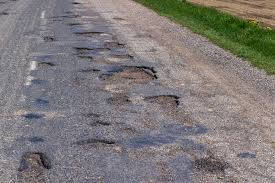potholes: (117, 63, 162, 85)
